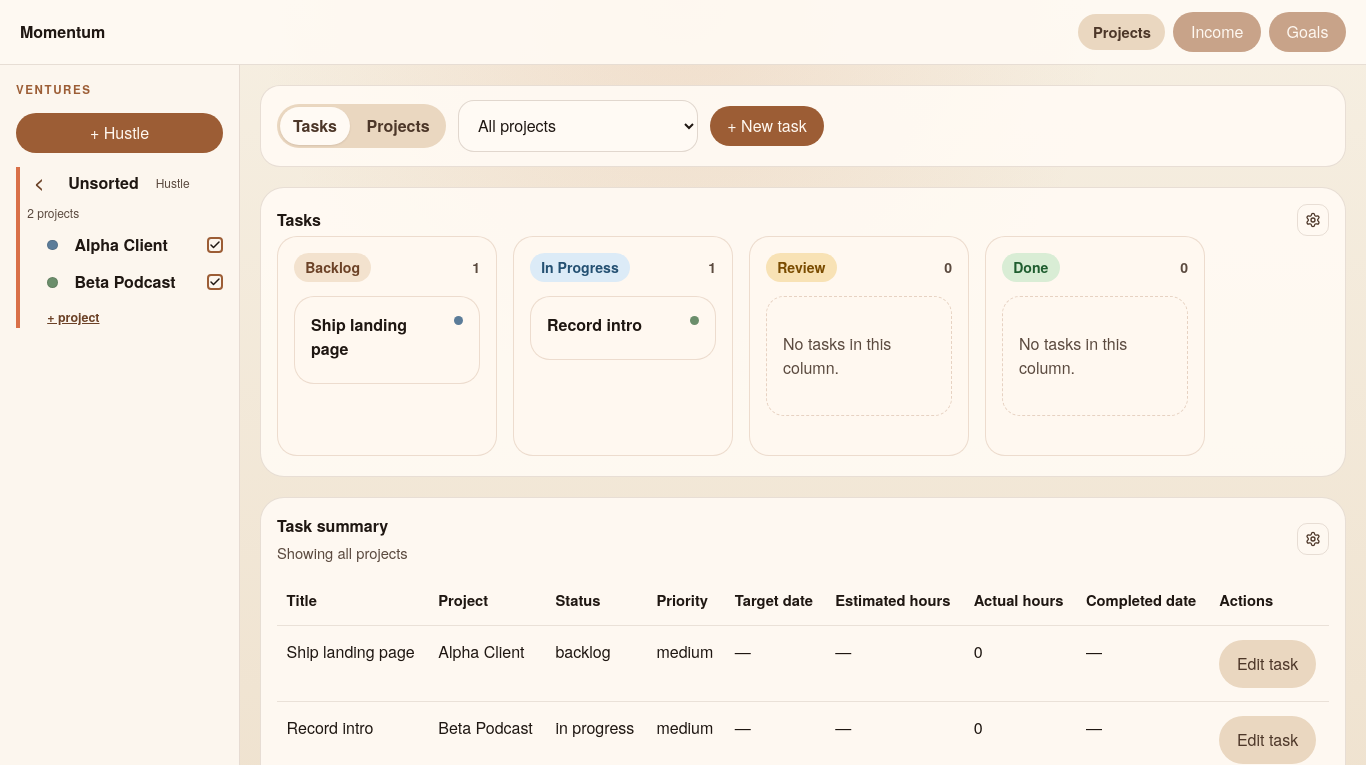
Ticket 1b-2 project and task modal UX › sidebar multi-select filter › shows an empty Kanban and table with clear guidance when zero projects are checked
This screenshot has width=1366, height=765.
Click the checkbox named "Alpha Client": (215,245) [207,237,223,253]
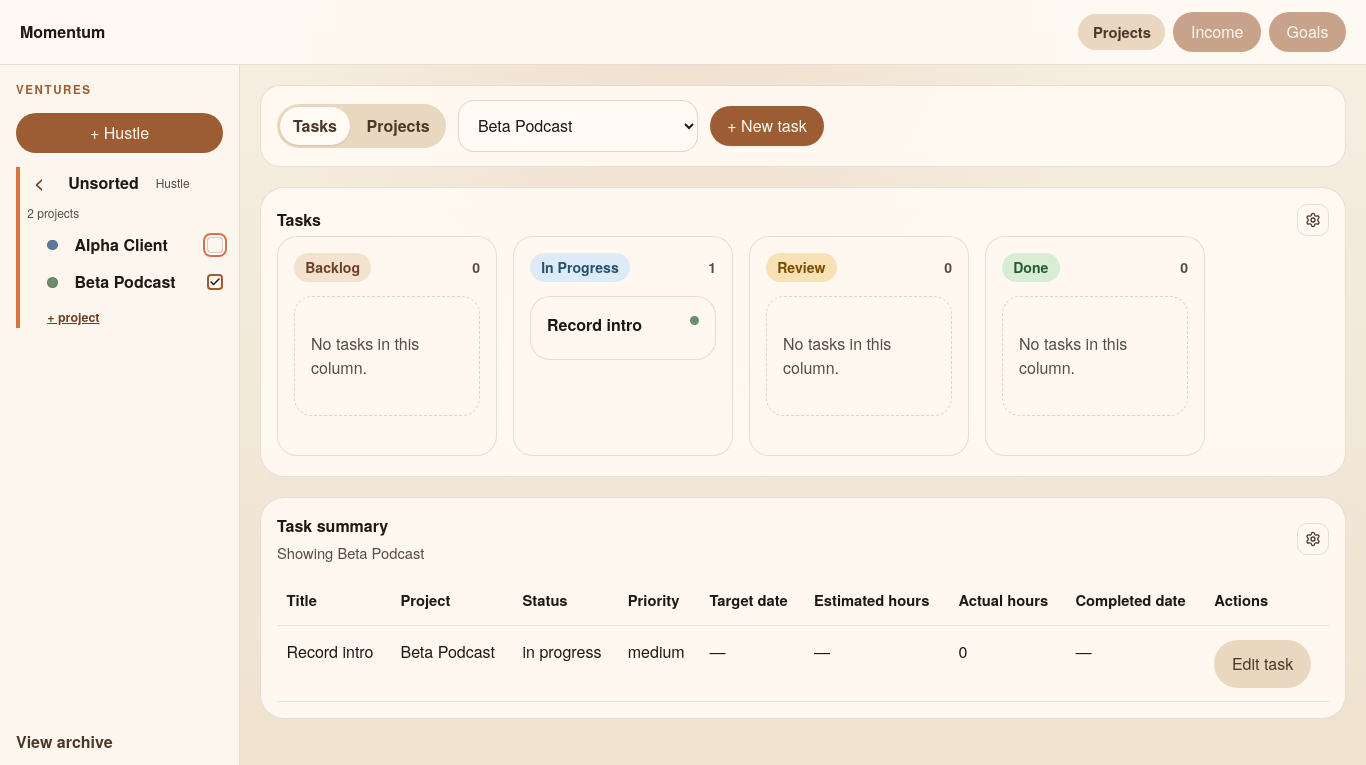
Click the checkbox named "Beta Podcast": (215,282) [207,274,223,290]
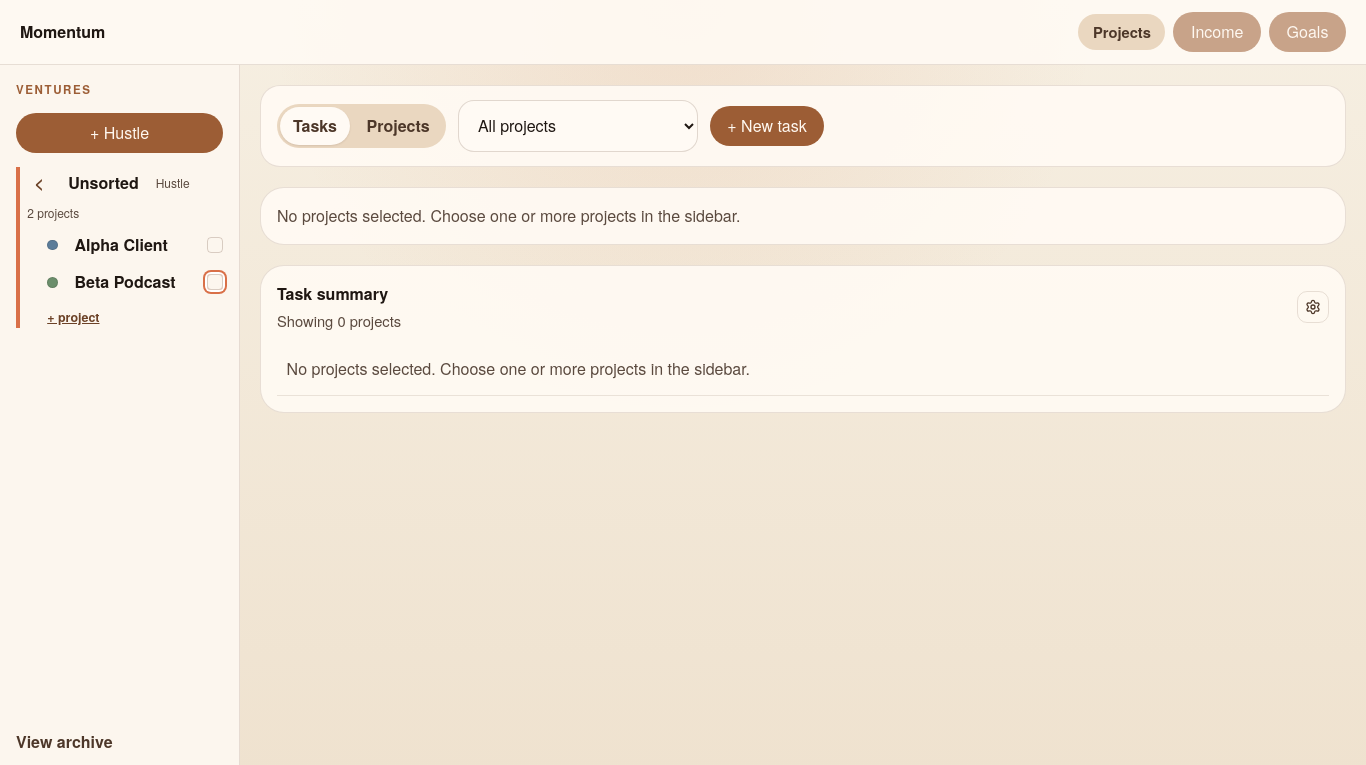
Expected: the 1st text "No projects selected" is shown, [277,204,740,227]
Expected: the text "No projects selected" below "Showing 0 projects" is shown, [287,358,750,380]
